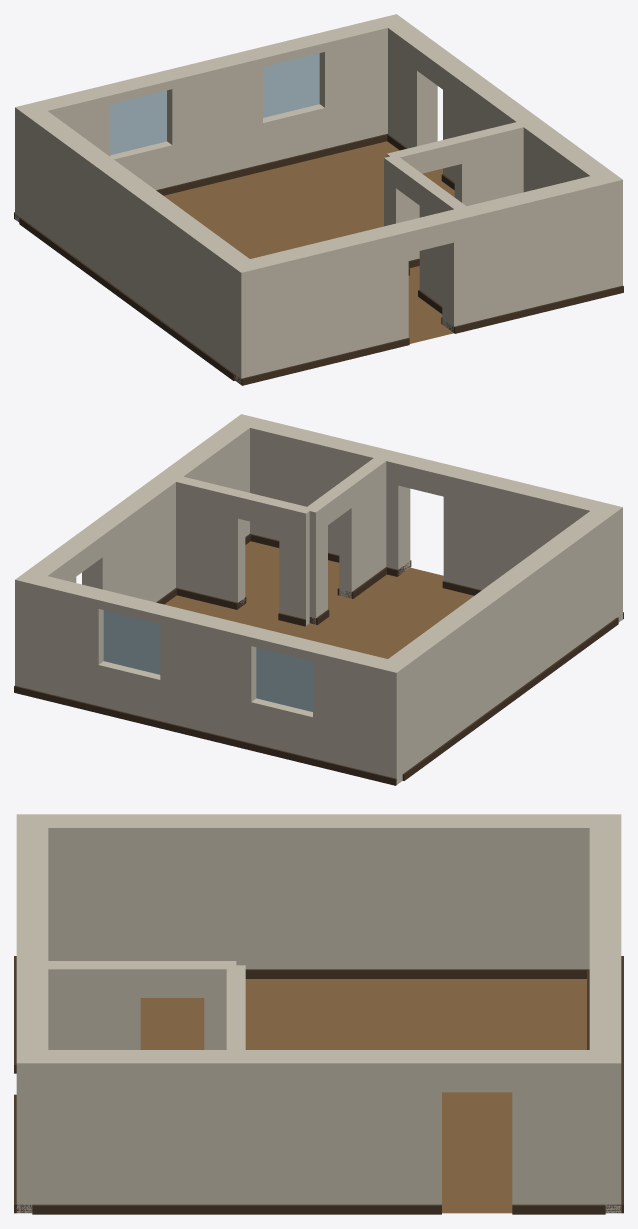
Rendered from room.glb.
3 renders of one model, top to bottom at view 1: azimuth 30°, elevation 25°; view 2: azimuth 150°, elevation 25°; view 3: azimuth 270°, elevation 25°, orthographic. The views are drawn at different scales.
Parts seen in each view (by area): view 1: Detention; view 2: Detention; view 3: Detention.
Part boxes in pixels (x1,y1,x2,y2): Detention: (14, 14, 623, 385); Detention: (14, 414, 623, 785); Detention: (14, 814, 623, 1214).
Size of the model in its own units: 1866 by 520 by 1916.
